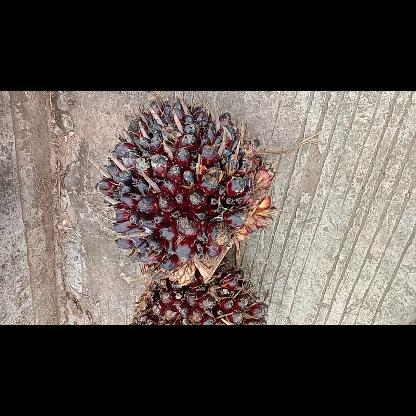TBS mentah: (96, 97, 280, 287), (129, 256, 277, 324)
